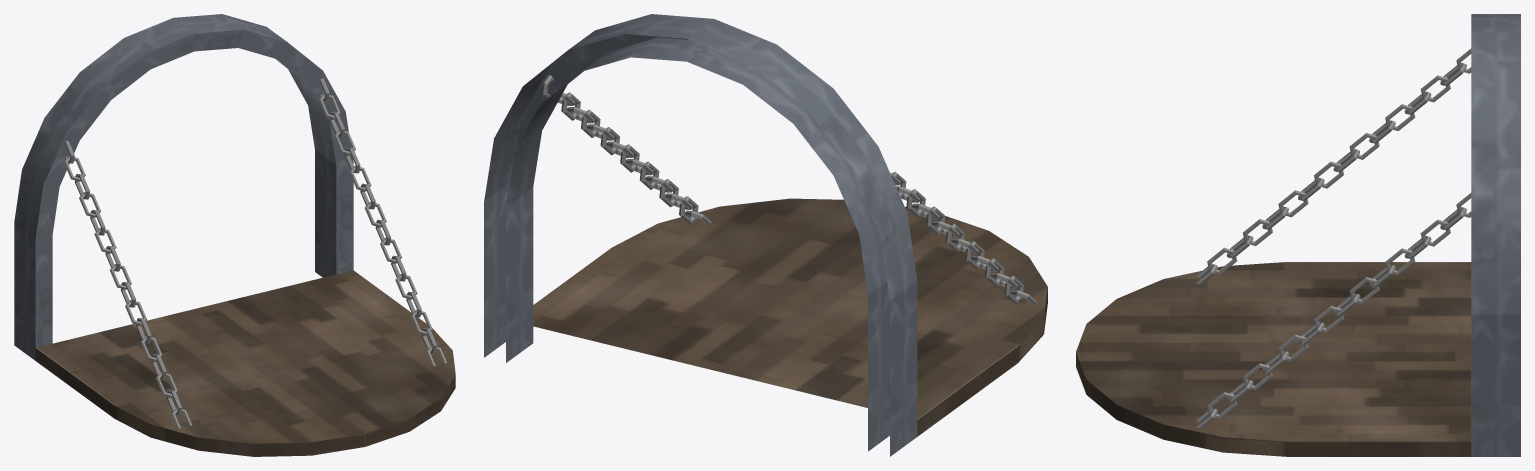
Rendered from SM_Fortress_Drawbridge.fbx.
3 renders of one model, left to right at view 1: azimuth 30°, elevation 25°; view 2: azimuth 150°, elevation 25°; view 3: azimuth 270°, elevation 25°, orthographic. The views are drawn at different scales.
Parts seen in each view (by area): view 1: polySurface967; view 2: polySurface967; view 3: polySurface967.
Boxes of the visible parts, bbox=[...] form: polySurface967: bbox=[14, 14, 455, 456]; polySurface967: bbox=[484, 14, 1047, 456]; polySurface967: bbox=[1076, 14, 1520, 456].
Size of the model in its own units: 541 by 469 by 565.
